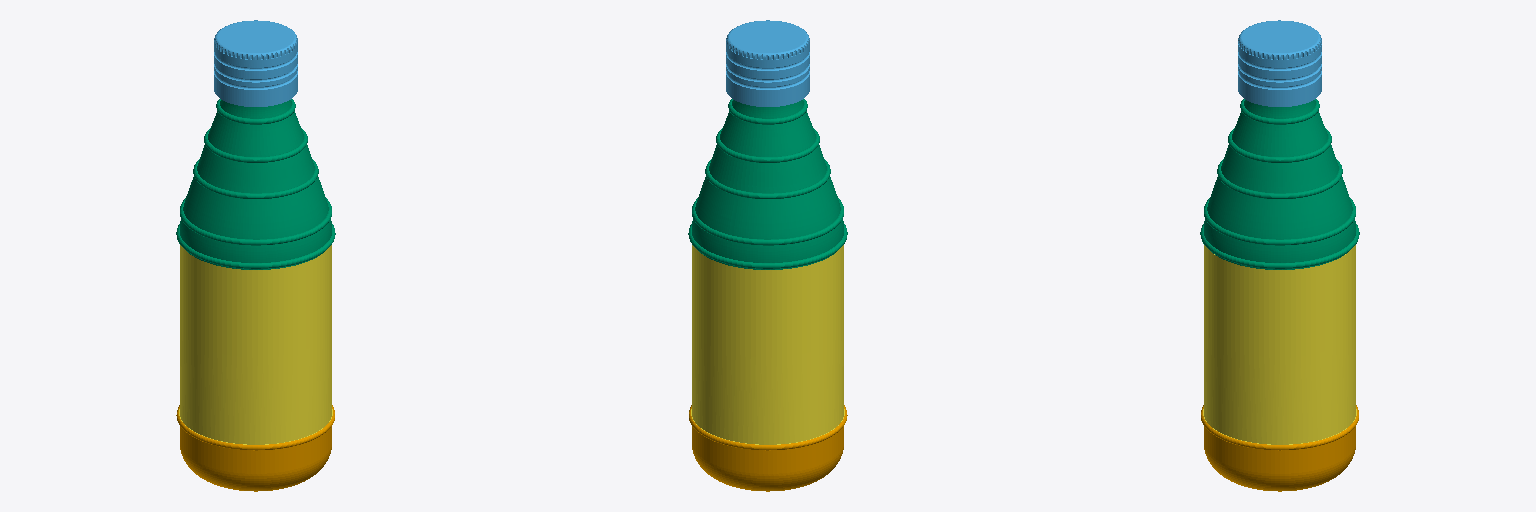
robot.urdf — syrup_bottle_hamdard:
<?xml version="1.0" ?>
<robot name="syrup_bottle_hamdard">

<material name="syrup">
  <color rgba="0.2 0.2 0.2 1.000"/>
</material>
<material name="label">
  <color rgba="0.4 0.5 0.2 1.000"/>
</material>
<material name="cap">
  <color rgba="0.3 0.4 0.5 1.000"/>
</material>


<link name="base_link">
  <inertial>
    <origin xyz="4.934289947548106e-09 -3.2225065737251766e-09 0.011631590799827753" rpy="0 0 0"/>
    <mass value="2.4197644859239624"/>
    <inertia ixx="7.636976861248487e-06" iyy="7.636972233043568e-06" izz="1.2952930108645787e-05" ixy="2.39809794822739e-12" iyz="-1.4847825472360082e-12" ixz="2.273493456966391e-12"/>
  </inertial>
  <visual>
    <origin xyz="0 0 0" rpy="0 0 0"/>
    <geometry>
      <mesh filename="meshes/base_link.stl" scale="0.001 0.001 0.001"/>
    </geometry>
    <material name="syrup"/>
    <material/>
  </visual>
  <collision>
    <origin xyz="0 0 0" rpy="0 0 0"/>
    <geometry>
      <mesh filename="meshes/base_link.stl" scale="0.001 0.001 0.001"/>
    </geometry>
    <contact>
      <soft_cfm value="0.0"/>
      <soft_erp value="0.2"/>
  </contact>
  </collision>
</link>

<link name="syrup_bottle1Component51">
  <inertial>
    <origin xyz="-4.258148684713765e-08 -5.132816009368364e-08 0.009451222640652346" rpy="0 0 0"/>
    <mass value="1.3143983196324477"/>
    <inertia ixx="9.997246824698571e-07" iyy="9.99720290526451e-07" izz="1.207189092517859e-06" ixy="-3.520512116998867e-12" iyz="-1.6691597034151787e-13" ixz="-1.4722253985932964e-13"/>
  </inertial>
  <visual>
    <origin xyz="-0.0 -0.0 -0.137" rpy="0 0 0"/>
    <geometry>
      <mesh filename="meshes/syrup_bottle1Component51.stl" scale="0.001 0.001 0.001"/>
    </geometry>
    <material name="cap"/>
    <material/>
  </visual>
  <collision>
    <origin xyz="-0.0 -0.0 -0.137" rpy="0 0 0"/>
    <geometry>
      <mesh filename="meshes/syrup_bottle1Component51.stl" scale="0.001 0.001 0.001"/>
    </geometry>
    <contact>
      <soft_cfm value="0.0"/>
      <soft_erp value="0.2"/>
  </contact>
  </collision>
</link>

<link name="syrup_bottle1Component31">
  <inertial>
    <origin xyz="-4.55710921680438e-18 0.0 0.01958792796595507" rpy="0 0 0"/>
    <mass value="1.7484141742909835"/>
    <inertia ixx="2.2913746704419057e-05" iyy="2.291374668682495e-05" izz="1.6910522809938658e-05" ixy="6.821210263296961e-21" iyz="-1.3642420526593922e-20" ixz="1.149074041793636e-19"/>
  </inertial>
  <visual>
    <origin xyz="-0.0 -0.0 -0.0835" rpy="0 0 0"/>
    <geometry>
      <mesh filename="meshes/syrup_bottle1Component31.stl" scale="0.001 0.001 0.001"/>
    </geometry>
    <material name="syrup"/>
    <material/>
  </visual>
  <collision>
    <origin xyz="-0.0 -0.0 -0.0835" rpy="0 0 0"/>
    <geometry>
      <mesh filename="meshes/syrup_bottle1Component31.stl" scale="0.001 0.001 0.001"/>
    </geometry>
    <contact>
      <soft_cfm value="0.0"/>
      <soft_erp value="0.2"/>
  </contact>
  </collision>
</link>

<link name="syrup_bottle1Component41">
  <inertial>
    <origin xyz="0.0 0.0 0.03149992485838196" rpy="0 0 0"/>
    <mass value="2.1484406070507218"/>
    <inertia ixx="7.229086570383048e-05" iyy="7.229086570382907e-05" izz="4.638780156287693e-05" ixy="1.3642420526593922e-20" iyz="0.0" ixz="0.0"/>
  </inertial>
  <visual>
    <origin xyz="-0.0 -0.0 -0.0205" rpy="0 0 0"/>
    <geometry>
      <mesh filename="meshes/syrup_bottle1Component41.stl" scale="0.001 0.001 0.001"/>
    </geometry>
    <material name="label"/>
    <material/>
  </visual>
  <collision>
    <origin xyz="-0.0 -0.0 -0.0205" rpy="0 0 0"/>
    <geometry>
      <mesh filename="meshes/syrup_bottle1Component41.stl" scale="0.001 0.001 0.001"/>
    </geometry>
    <contact>
      <soft_cfm value="0.0"/>
      <soft_erp value="0.2"/>
  </contact>
  </collision>
</link>

<joint name="syrup_bottle1_Rigid 4" type="fixed">
  <origin xyz="0.0 0.0 0.0535" rpy="0 0 0"/>
  <parent link="syrup_bottle1Component31"/>
  <child link="syrup_bottle1Component51"/>
</joint>

<joint name="syrup_bottle1_Rigid 5" type="fixed">
  <origin xyz="0.0 0.0 0.063" rpy="0 0 0"/>
  <parent link="syrup_bottle1Component41"/>
  <child link="syrup_bottle1Component31"/>
</joint>

<joint name="syrup_bottle1_Rigid 6" type="fixed">
  <origin xyz="0.0 0.0 0.0205" rpy="0 0 0"/>
  <parent link="base_link"/>
  <child link="syrup_bottle1Component41"/>
</joint>

</robot>

--- What the picture shows (computed from the rendered views, not written in the file) ---
The picture shows the robot from 3 angles, left to right: view 1: azimuth 30°, elevation 25°; view 2: azimuth 150°, elevation 25°; view 3: azimuth 270°, elevation 25°; orthographic projection.
Robot: syrup_bottle_hamdard — 4 links, 3 joints (3 fixed); root link base_link; default pose: every joint at zero.
Links seen in each view (by area): view 1: syrup_bottle1Component41, syrup_bottle1Component31, base_link, syrup_bottle1Component51; view 2: syrup_bottle1Component41, syrup_bottle1Component31, base_link, syrup_bottle1Component51; view 3: syrup_bottle1Component41, syrup_bottle1Component31, base_link, syrup_bottle1Component51.
Link boxes in pixels (left/top/right/bottom): syrup_bottle1Component41: left=179, top=245, right=332, bottom=444; syrup_bottle1Component31: left=176, top=99, right=335, bottom=269; base_link: left=176, top=405, right=334, bottom=491; syrup_bottle1Component51: left=214, top=20, right=297, bottom=106; syrup_bottle1Component41: left=691, top=245, right=844, bottom=444; syrup_bottle1Component31: left=688, top=99, right=847, bottom=269; base_link: left=689, top=405, right=847, bottom=491; syrup_bottle1Component51: left=726, top=20, right=809, bottom=106; syrup_bottle1Component41: left=1203, top=245, right=1356, bottom=444; syrup_bottle1Component31: left=1200, top=99, right=1359, bottom=269; base_link: left=1201, top=405, right=1358, bottom=491; syrup_bottle1Component51: left=1238, top=20, right=1321, bottom=106.
Bounding box of the posed robot: 0.052 × 0.052 × 0.1553 m (x, y, z).
Meshes: 4 distinct files referenced, 4 mesh visuals loaded (4 binary STL).
